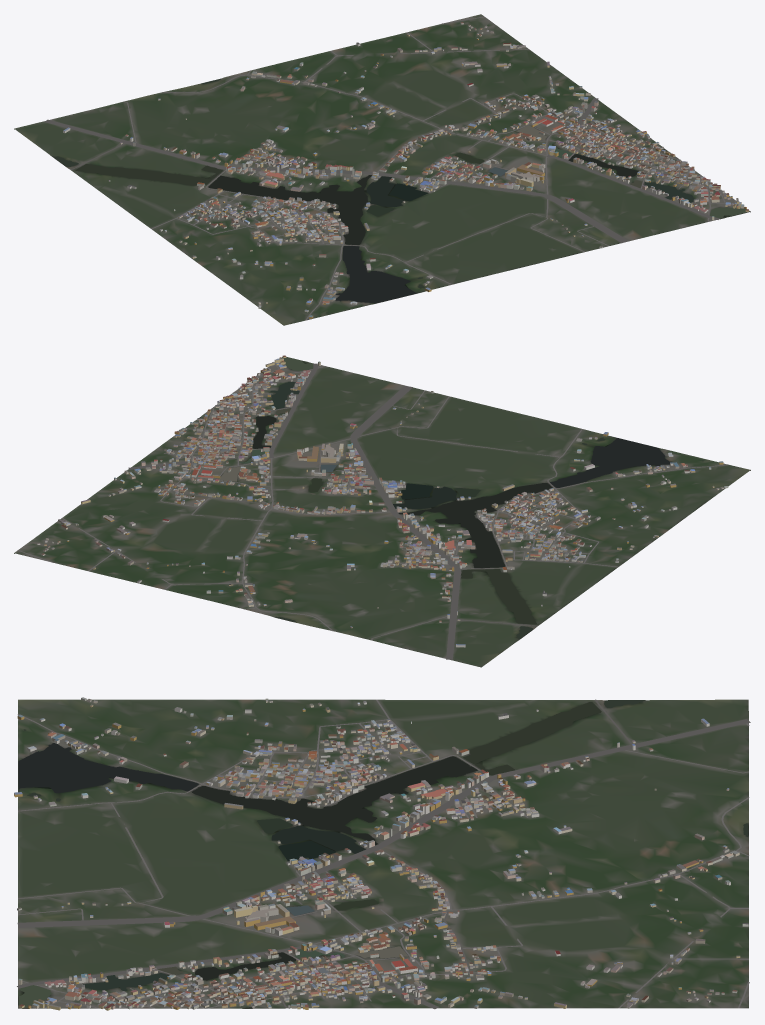
The picture shows the model from 3 angles, top to bottom: view 1: azimuth 30°, elevation 25°; view 2: azimuth 150°, elevation 25°; view 3: azimuth 270°, elevation 25°; orthographic projection. The views are drawn at different scales.
Visible parts, largest first — view 1: ground, buildings, water, roads; view 2: ground, buildings, water, roads; view 3: ground, buildings, water, roads.
Boxes of the visible parts, <box> form: ground: <box>14,14,750,325</box>; buildings: <box>63,22,748,318</box>; water: <box>52,78,746,313</box>; roads: <box>44,16,738,320</box>; ground: <box>14,357,750,667</box>; buildings: <box>37,355,728,647</box>; water: <box>199,357,703,639</box>; roads: <box>17,363,728,659</box>; ground: <box>18,699,748,1008</box>; buildings: <box>14,697,748,1010</box>; water: <box>18,700,748,1008</box>; roads: <box>17,699,750,1009</box>.
Size of the model in its own units: 1416 by 23.11 by 1414.
